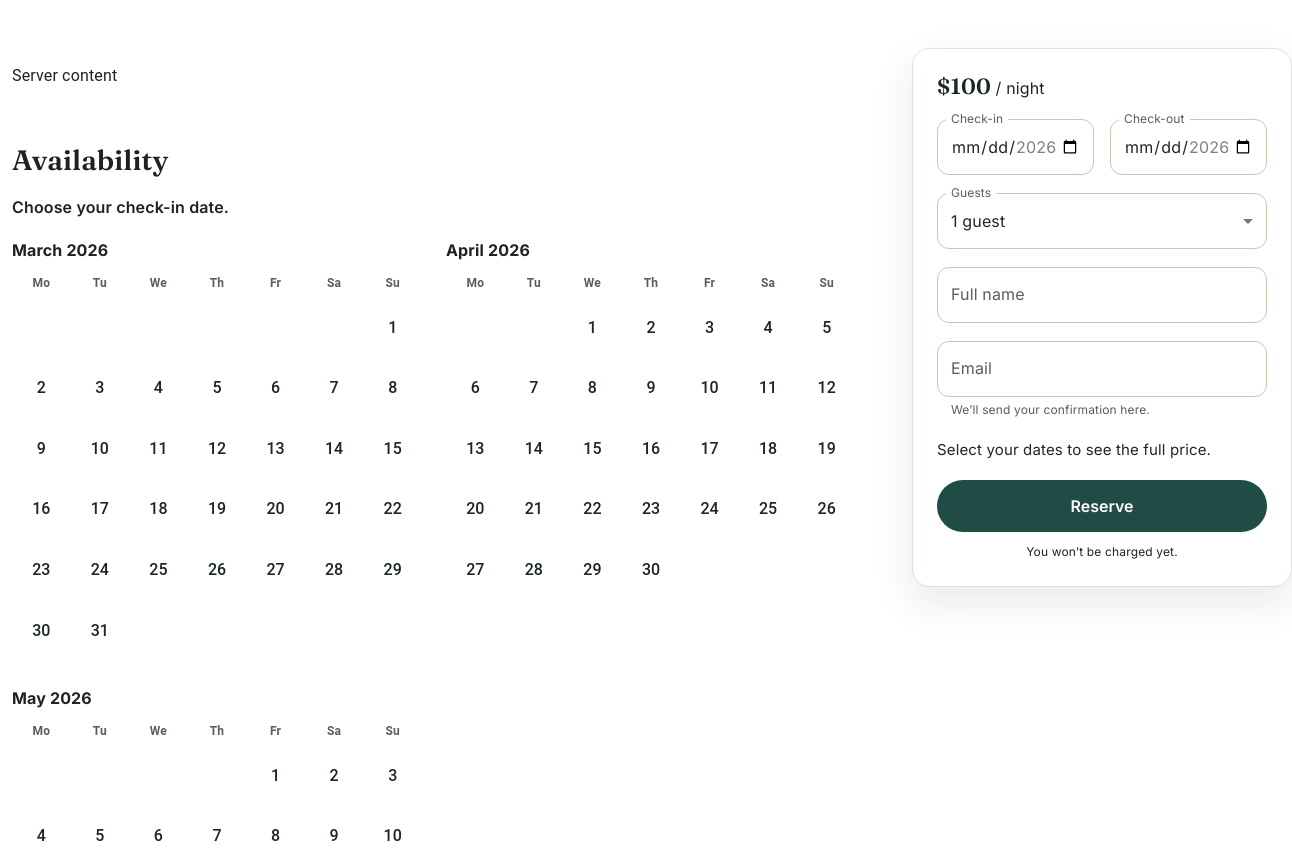
Test case: booking flow › disables the submit button while the request is pending (no double booking)
Click the button named "March 10, 2026": click(100, 449) [71, 420, 129, 478]
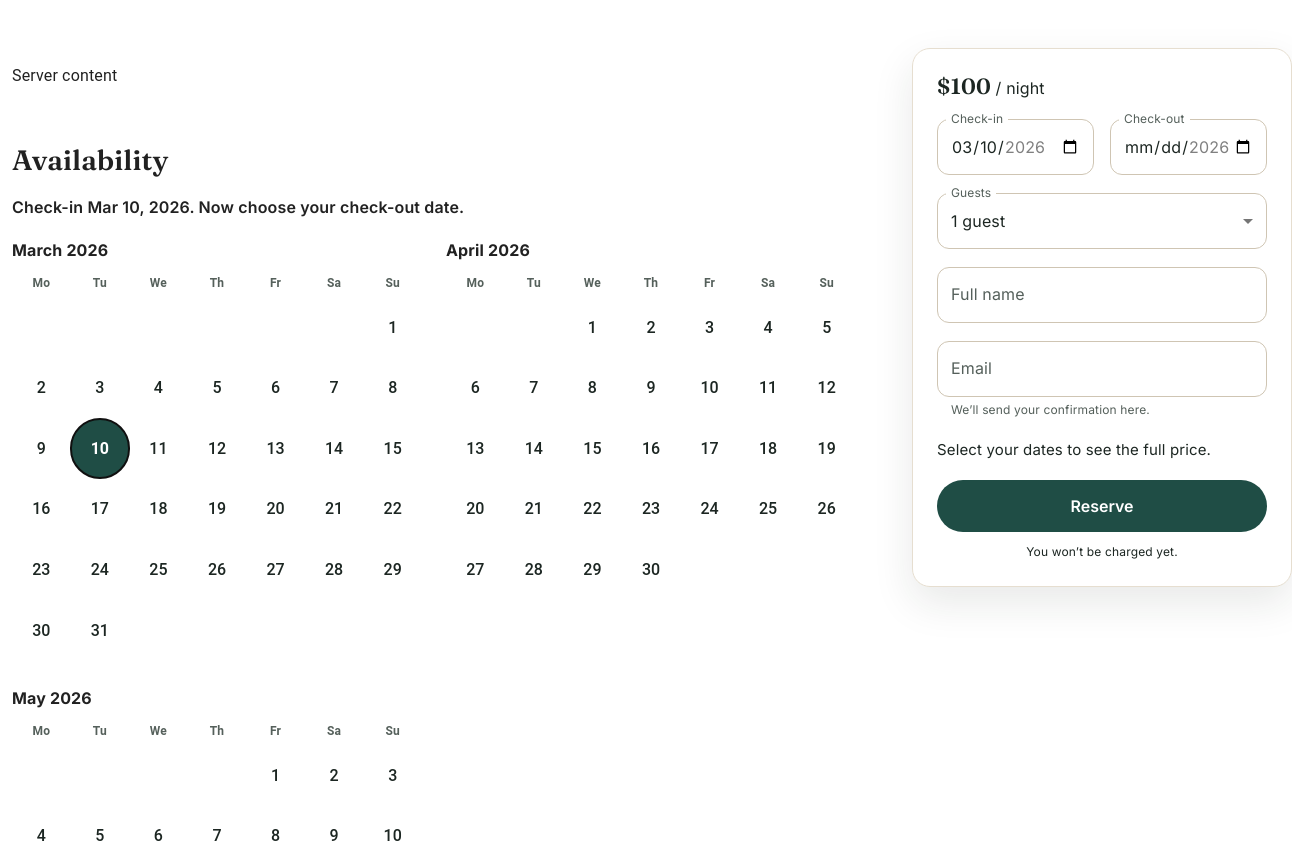
Click the button named "March 13, 2026": click(276, 449) [246, 420, 305, 478]
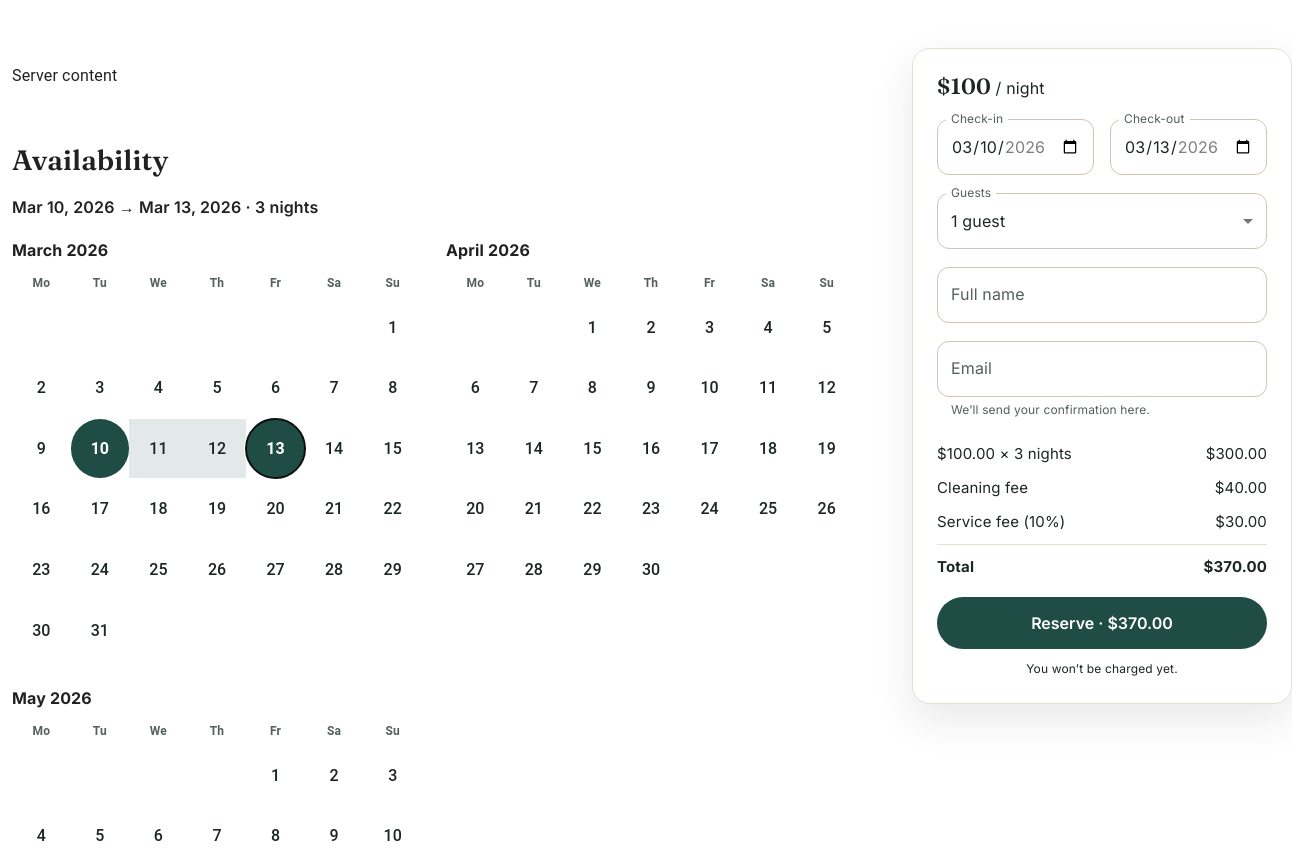
In the field labelled "Full name": (1102, 295) [937, 267, 1267, 323], type "Ana Souza"
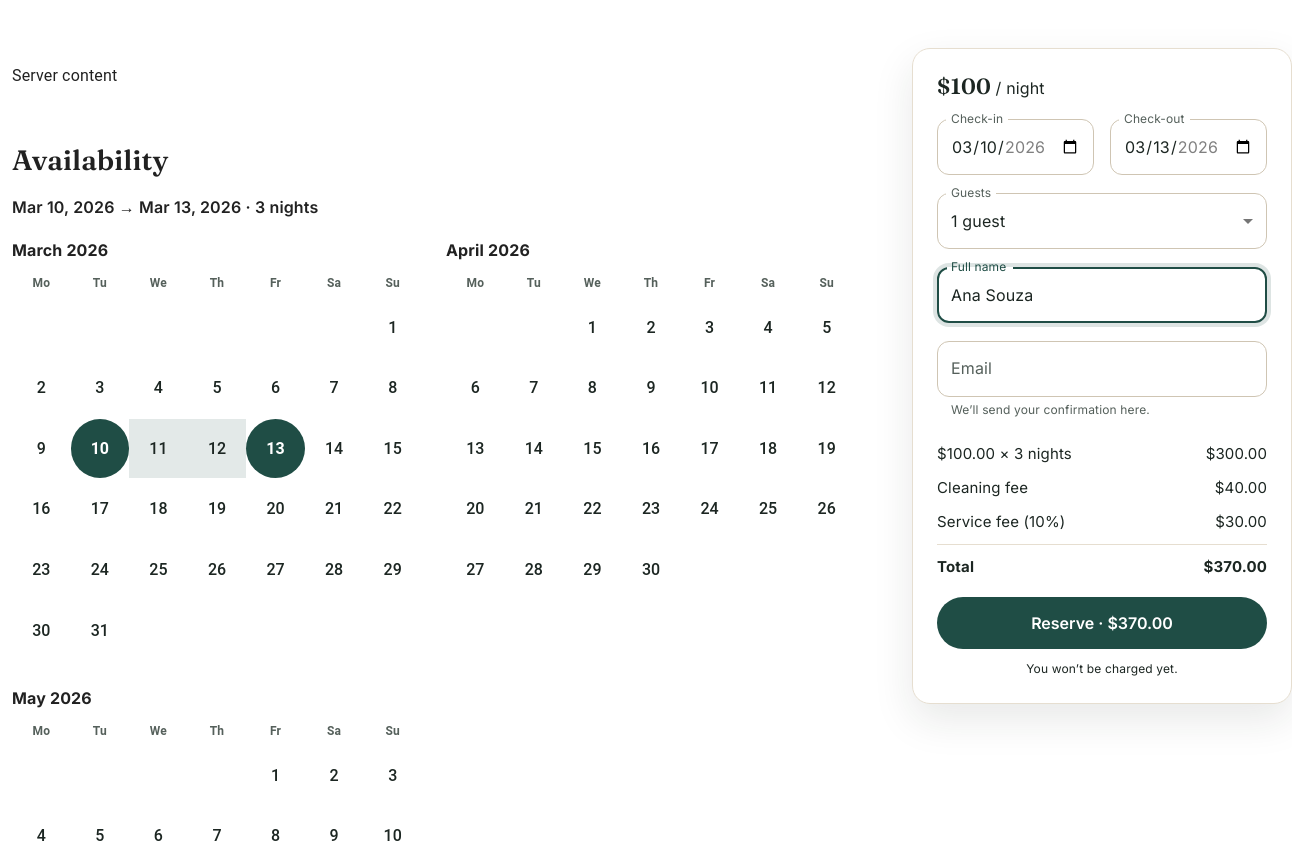
In the field labelled "Email": (1102, 369) [937, 341, 1267, 397], type "ana@example.com"
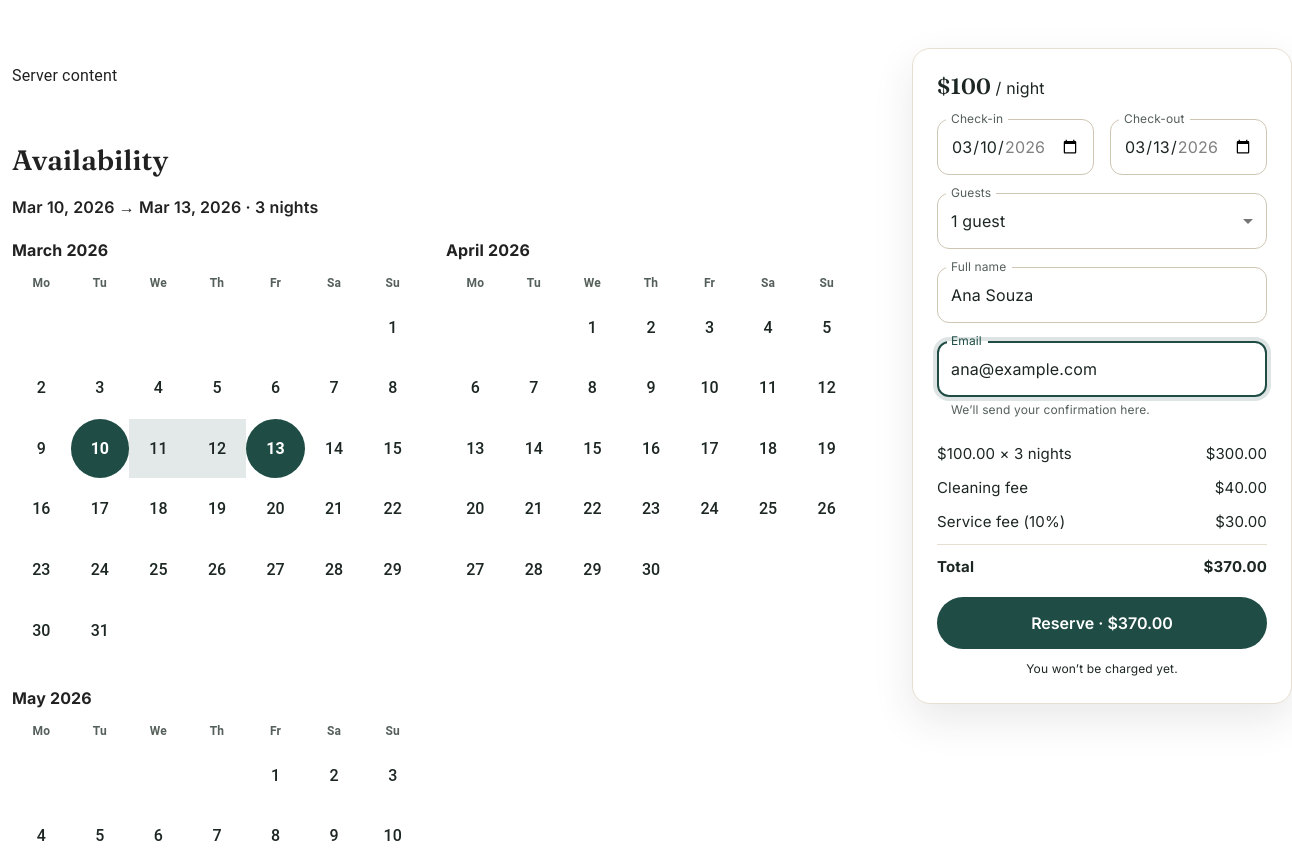
Click the button "Reserve · $370.00": click(1102, 623) [937, 597, 1267, 649]
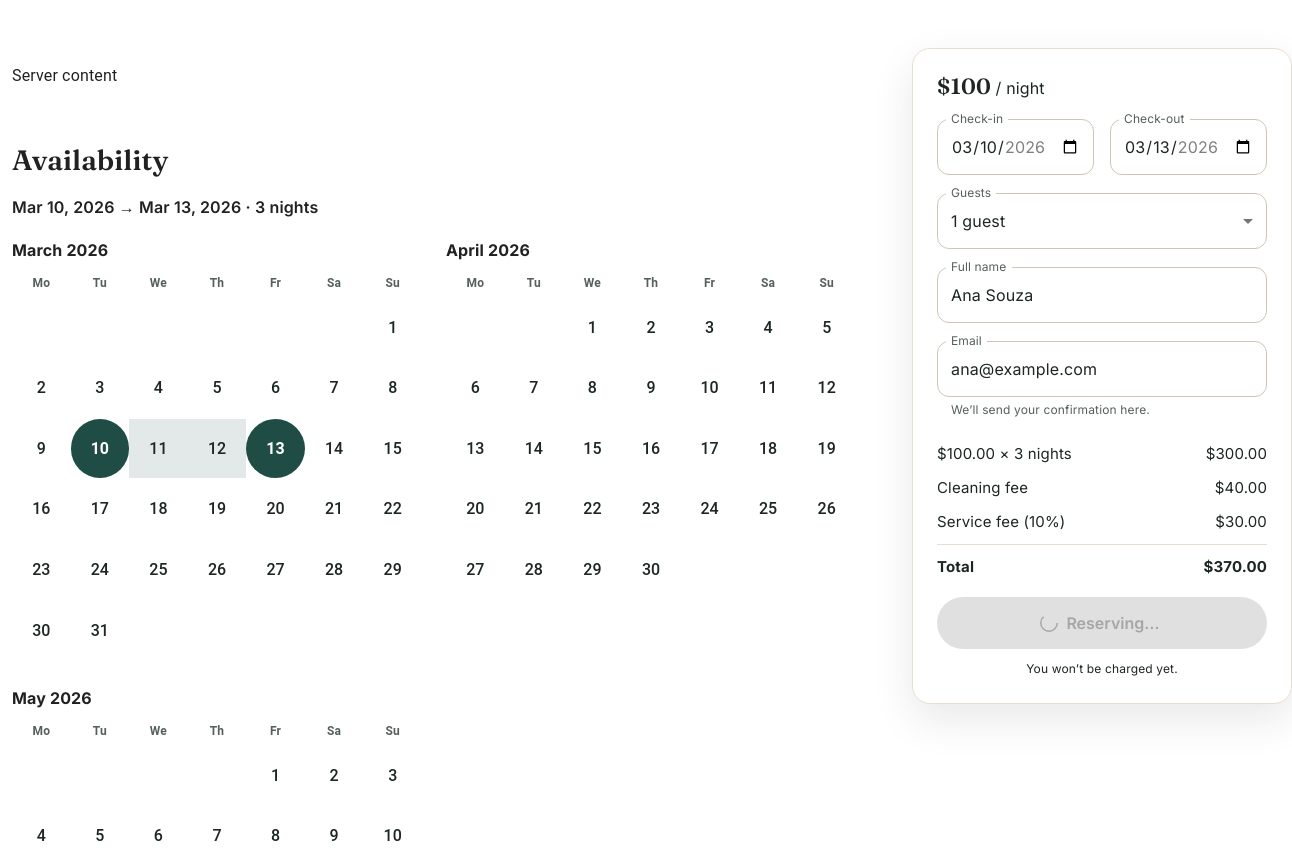
Result: the button "Reserving…" is disabled at [937, 597, 1267, 649]
